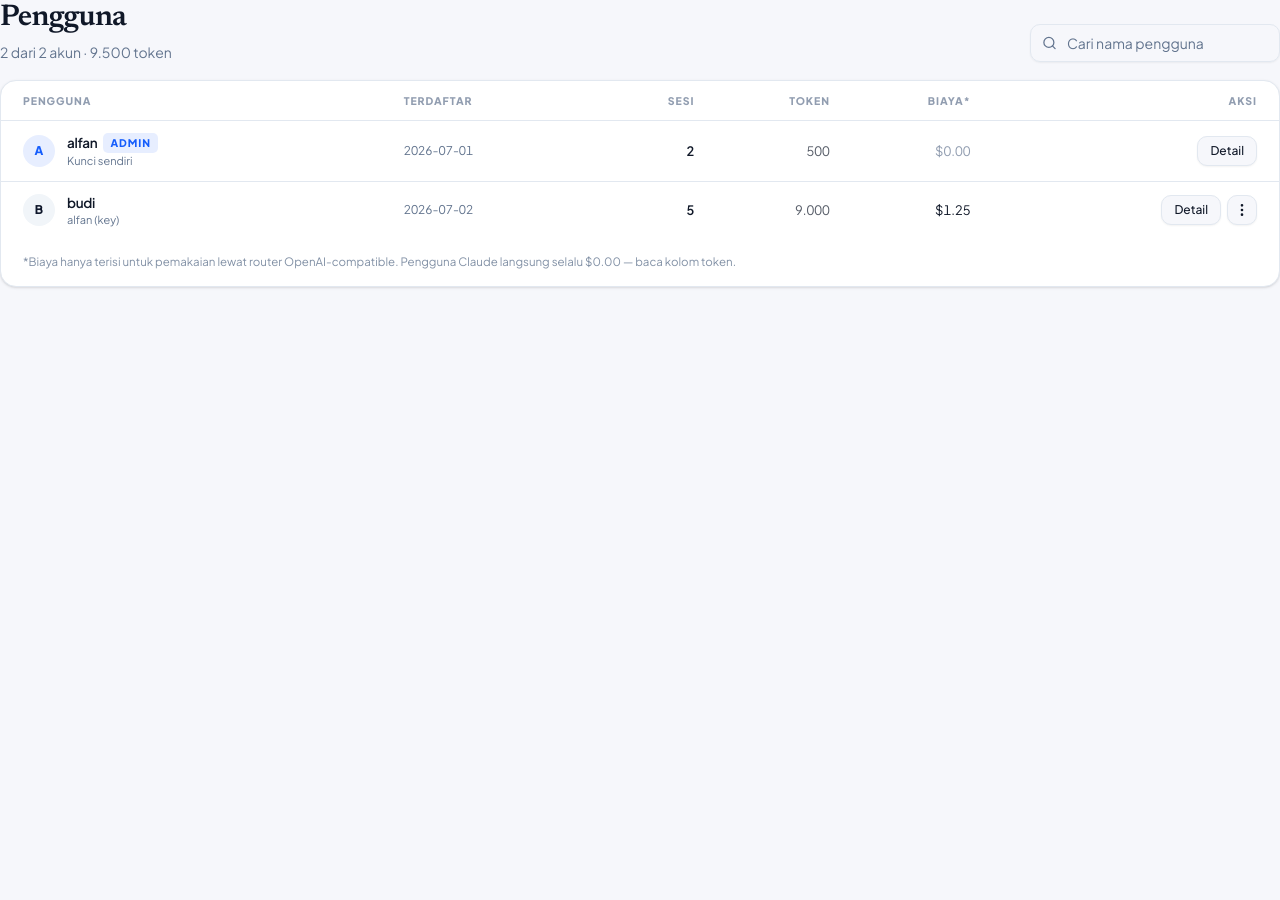
it: Users › opens the detail dialog by id and shows sessions, documents, and key presence as booleans only
Expected: the text "budi" is shown, [67, 194, 95, 212]
Click the button with aria-label "Detail budi": point(1191, 210) [1162, 195, 1221, 225]
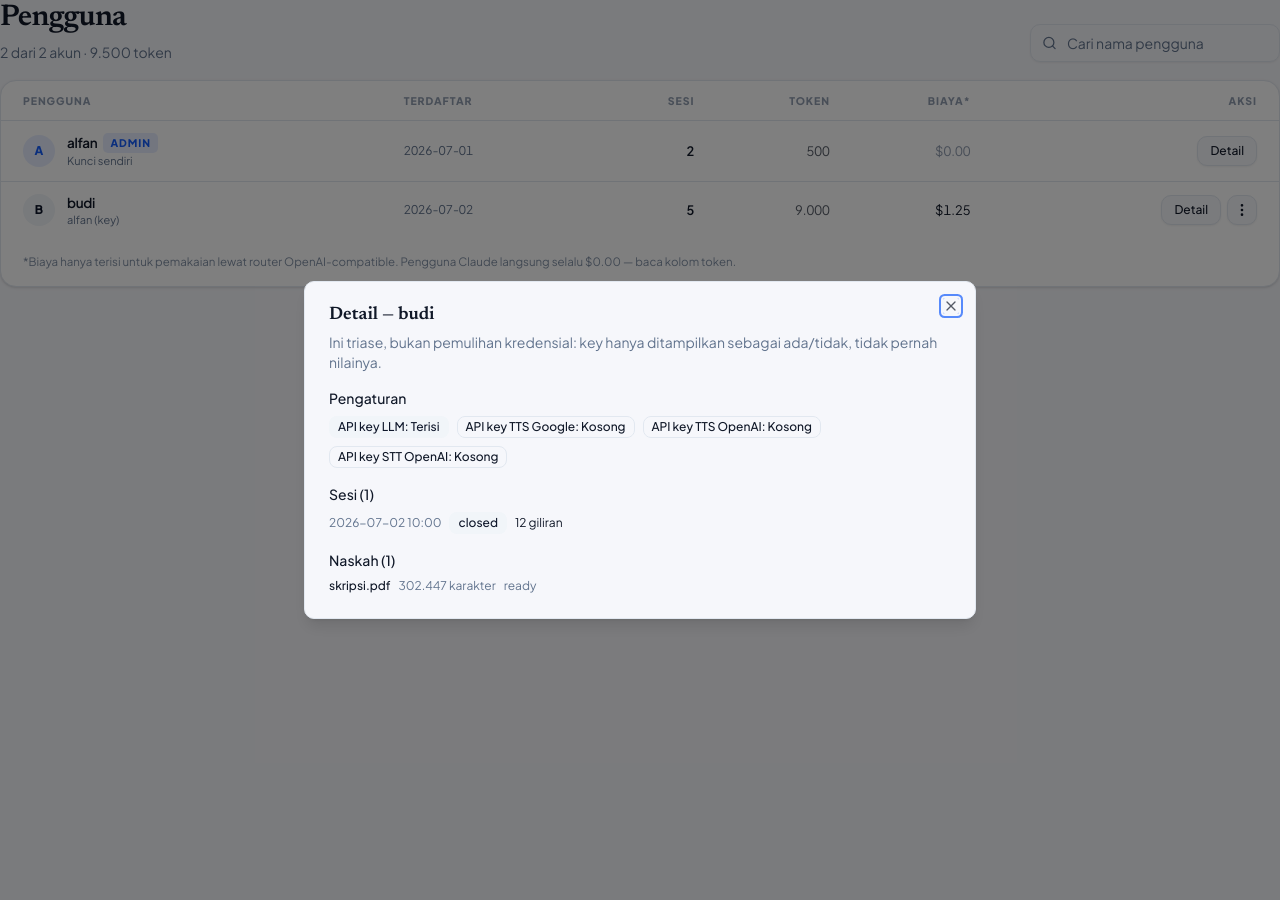
Expected: the text "skripsi.pdf" is shown, [329, 578, 390, 594]
Expected: the text "302.447 karakter" is shown, [398, 578, 496, 594]
Expected: the text "API key LLM: Terisi" is shown, [329, 416, 448, 438]
